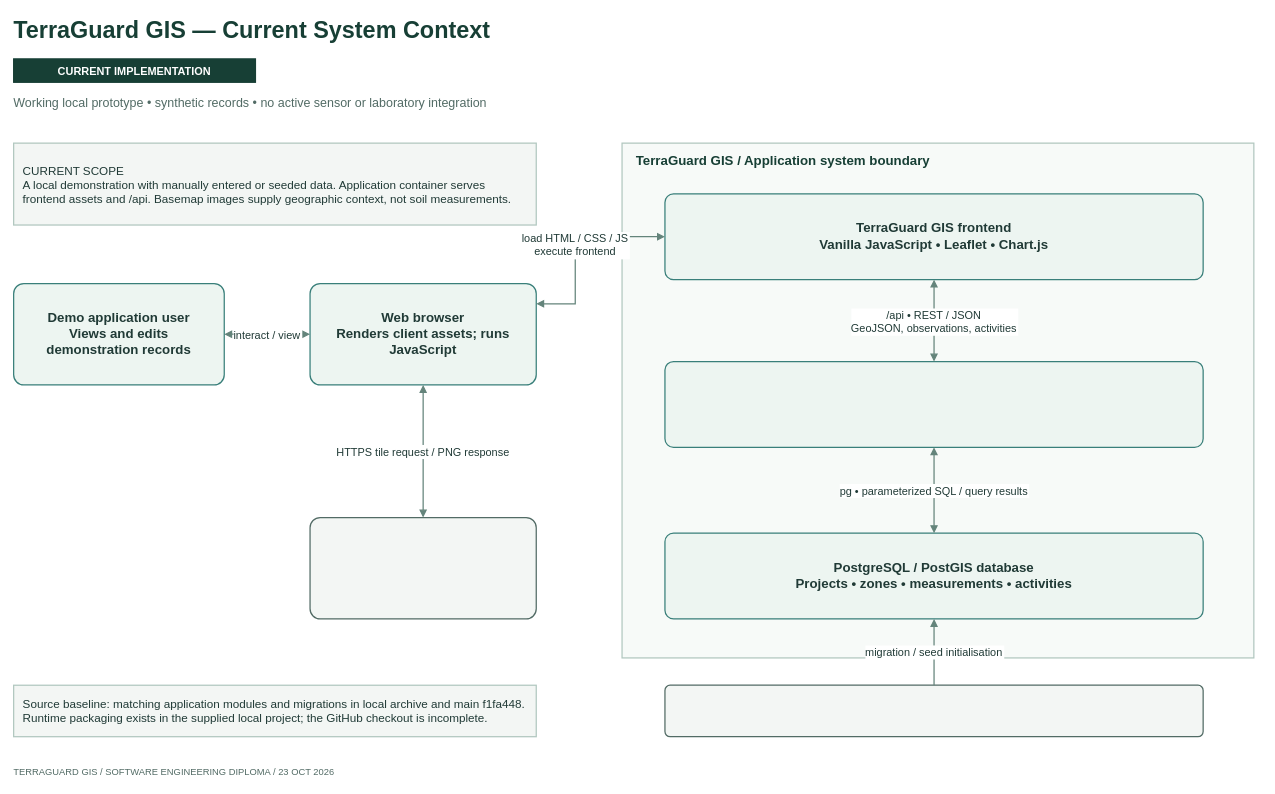
Some shapes in this 1275 by 794 pixel diagram are drawn without their labels. Each missing label, with the centre of its shape:
Express REST API Validation • repositories • demo rules: (933,404)
OpenStreetMap basemap service EXTERNAL • map tile images: (422,568)
Synthetic demonstration data SQL fixture • local input: (933,710)
